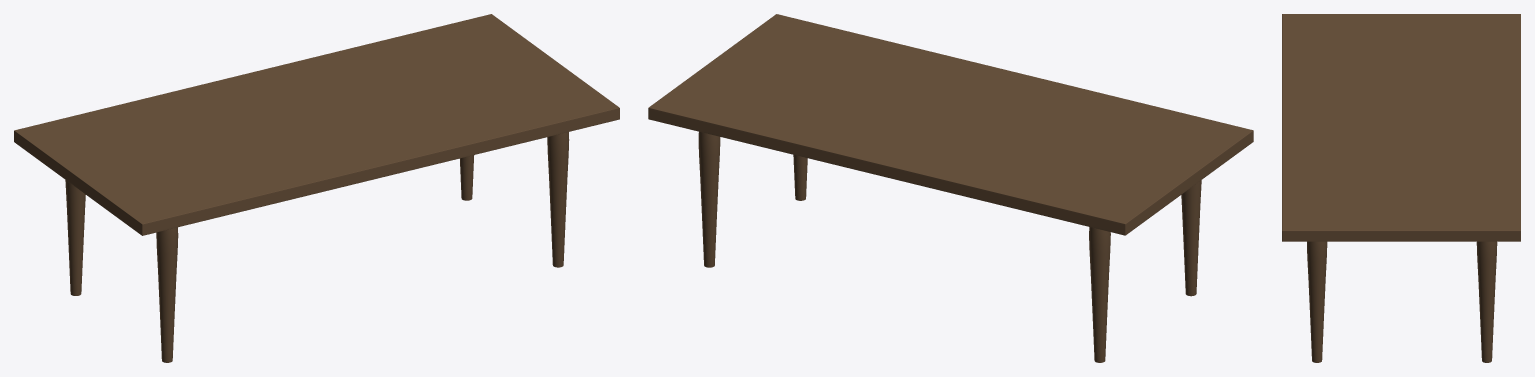
File: table.glb
3 renders of one model, left to right at view 1: azimuth 30°, elevation 25°; view 2: azimuth 150°, elevation 25°; view 3: azimuth 270°, elevation 25°, orthographic. The views are drawn at different scales.
Visible parts, largest first — view 1: table; view 2: table; view 3: table.
Boxes of the visible parts, x1,y1,x2,y2 form: table: [14, 14, 619, 362]; table: [648, 14, 1253, 362]; table: [1282, 14, 1520, 362].
Size of the model in its own units: 10.63 by 3.43 by 4.95.
